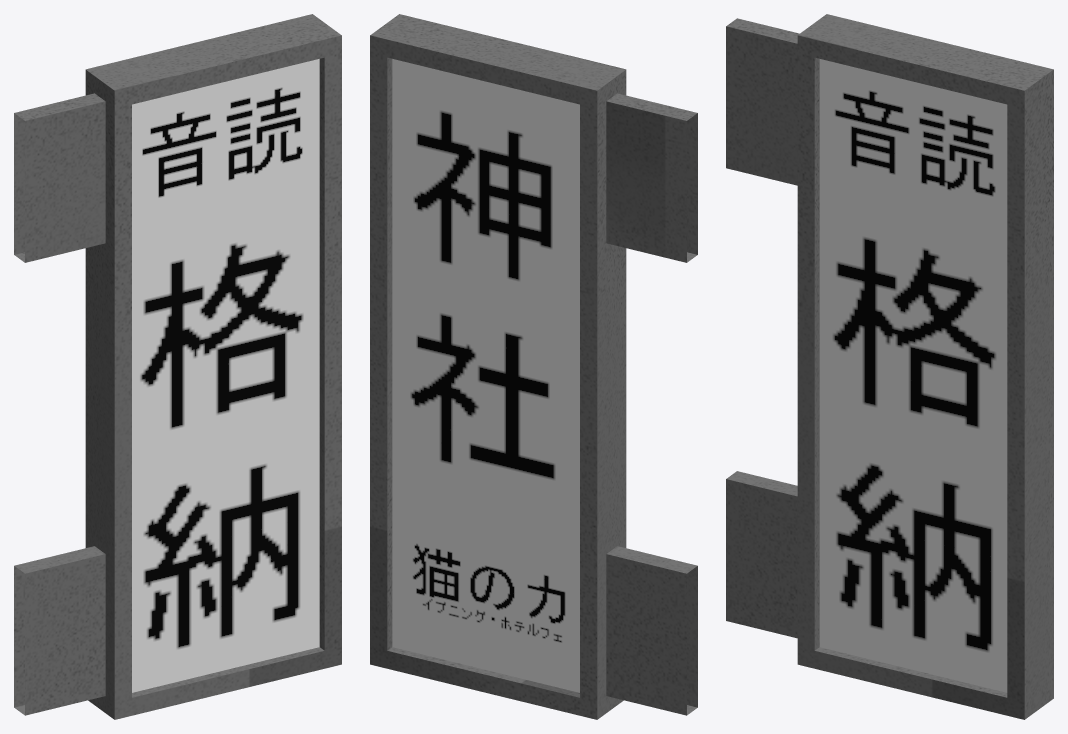
File: Billboard1.FBX
The picture shows the model from 3 angles, left to right: view 1: azimuth 30°, elevation 25°; view 2: azimuth 150°, elevation 25°; view 3: azimuth 330°, elevation 25°; orthographic projection.
Parts seen in each view (by area): view 1: BillboardA; view 2: BillboardA; view 3: BillboardA.
Part boxes in pixels (x1=…): BillboardA: x1=14, y1=14, x2=341, y2=719; BillboardA: x1=370, y1=14, x2=697, y2=719; BillboardA: x1=726, y1=14, x2=1053, y2=719.
Bounding box in the file's own units: 0.3581 × 0.0589 × 0.7.
2 materials, 2 textured.
